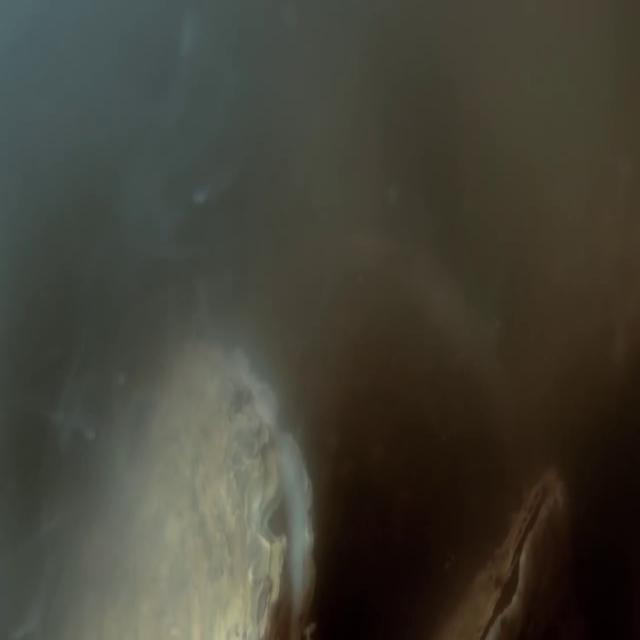Oyster-Open: (47, 338, 321, 633), (432, 470, 573, 631)
